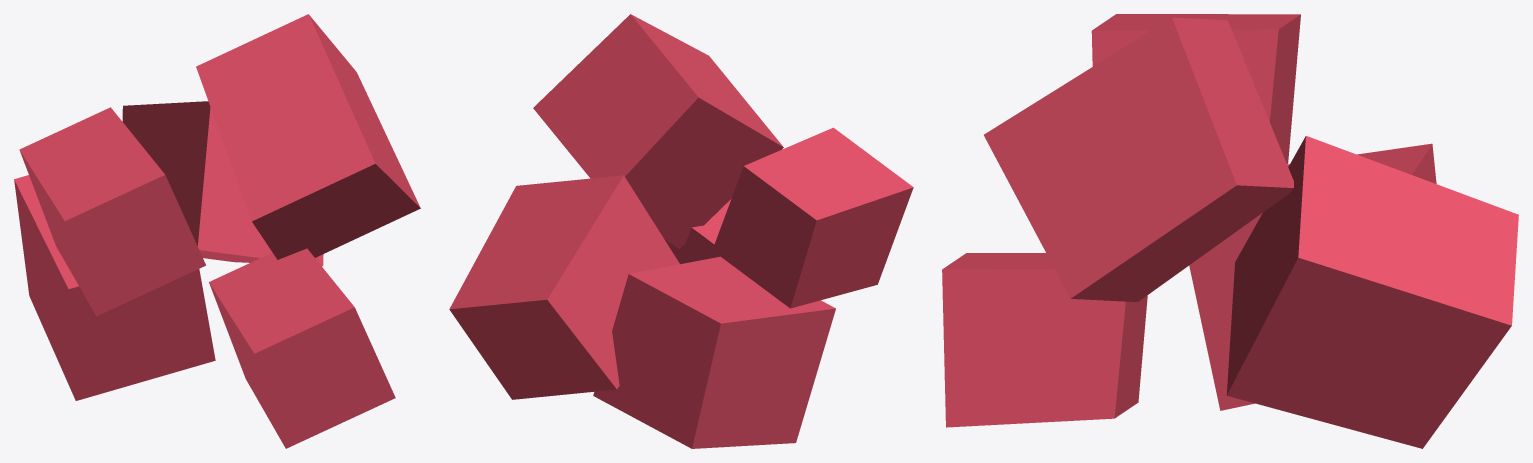
File: CurryMeat.fbx
The picture shows the model from 3 angles, left to right: view 1: azimuth 30°, elevation 25°; view 2: azimuth 150°, elevation 25°; view 3: azimuth 270°, elevation 25°; orthographic projection. The views are drawn at different scales.
Parts seen in each view (by area): view 1: Cube.001, Cube.005, Cube.007, Cube.004, Cube.003; view 2: Cube.004, Cube.003, Cube.001, Cube.005, Cube.007; view 3: Cube.003, Cube.001, Cube.007, Cube.005, Cube.004.
Part boxes in pixels (x1,y1,x2,y2): Cube.001: (196, 14, 420, 259); Cube.005: (19, 107, 205, 316); Cube.007: (209, 248, 395, 448); Cube.004: (14, 175, 215, 400); Cube.003: (122, 101, 323, 266); Cube.004: (593, 256, 835, 448); Cube.003: (449, 175, 679, 399); Cube.001: (533, 14, 783, 249); Cube.005: (712, 127, 913, 308); Cube.007: (664, 199, 731, 264); Cube.003: (1226, 136, 1518, 448); Cube.001: (984, 17, 1293, 302); Cube.007: (942, 253, 1147, 427); Cube.005: (1091, 14, 1300, 163); Cube.004: (1189, 143, 1436, 410).
Size of the model in its own units: 250 by 255 by 286.
